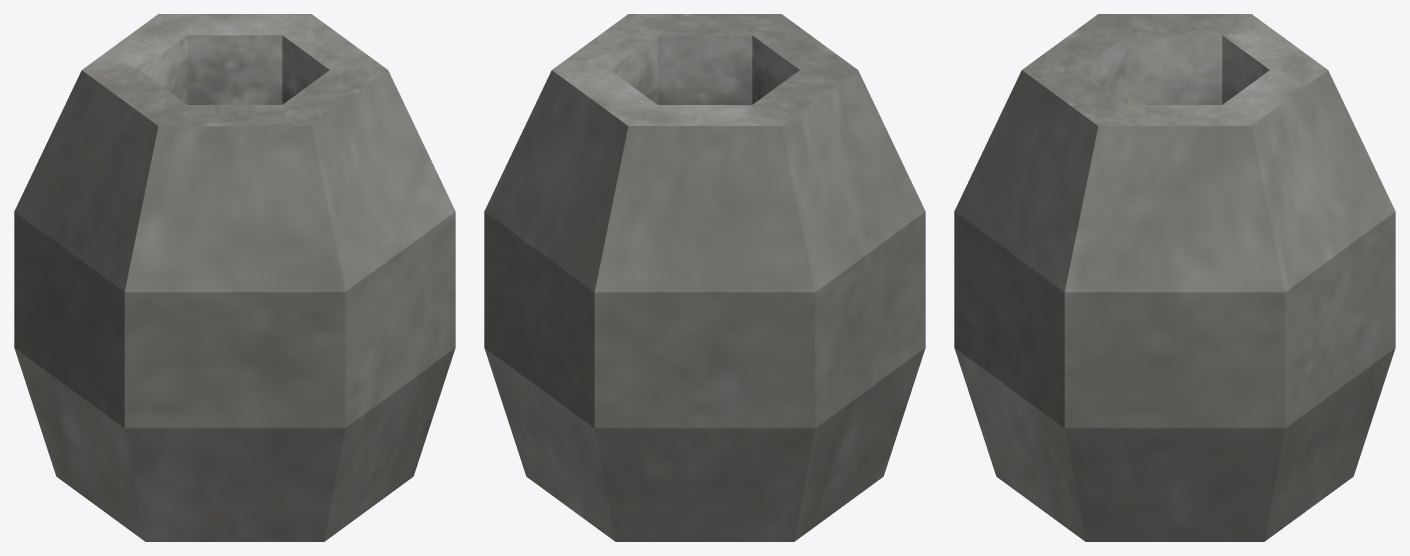
Rendered from bin.fbx.
3 views of the same model, side by side, from view 1: azimuth 30°, elevation 25°; view 2: azimuth 150°, elevation 25°; view 3: azimuth 270°, elevation 25° (orthographic).
Visible parts, largest first — view 1: bin; view 2: bin; view 3: bin.
Boxes of the visible parts, box(x1,y1,x2,y2) form: bin: box(14, 14, 455, 541); bin: box(484, 14, 925, 541); bin: box(954, 14, 1395, 541).
Size of the model in its own units: 53.69 by 63.01 by 62.
